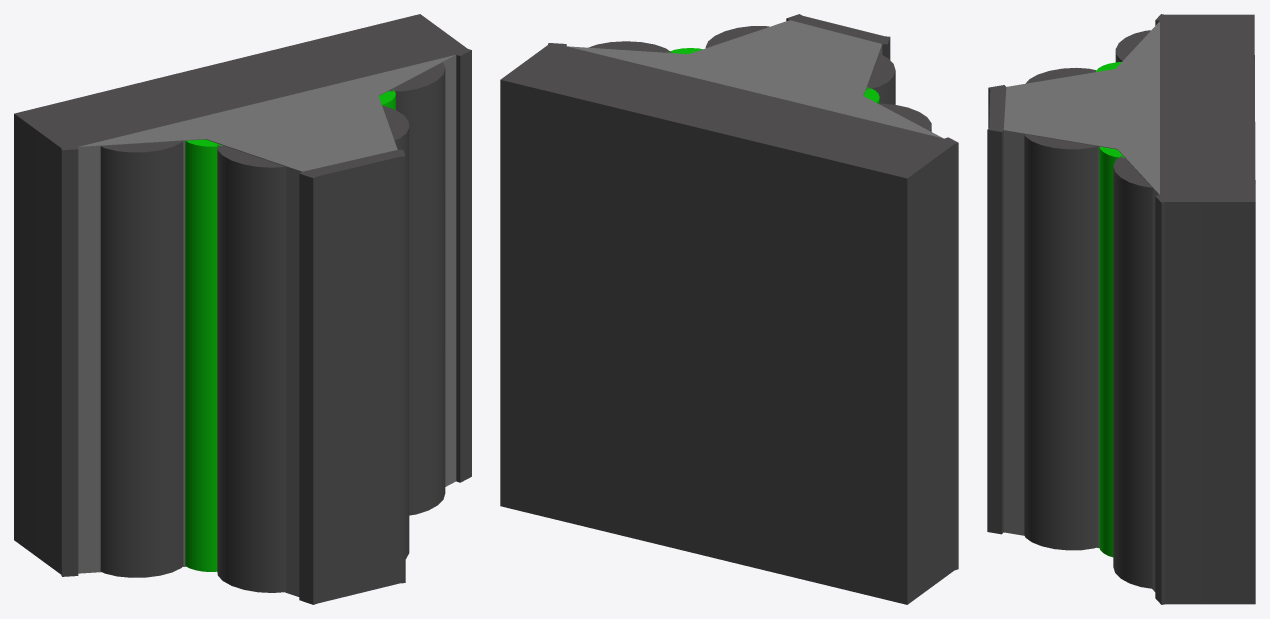
The model's file is Robot_Wall_Corner_DoubleSided.fbx.
The picture shows the model from 3 angles, left to right: view 1: azimuth 30°, elevation 25°; view 2: azimuth 150°, elevation 25°; view 3: azimuth 270°, elevation 25°; orthographic projection. The views are drawn at different scales.
Visible parts, largest first — view 1: Robot_Wall_Corner_DoubleSided; view 2: Robot_Wall_Corner_DoubleSided; view 3: Robot_Wall_Corner_DoubleSided.
Boxes of the visible parts, <box> form: Robot_Wall_Corner_DoubleSided: <box>14,14,471,604</box>; Robot_Wall_Corner_DoubleSided: <box>500,14,958,604</box>; Robot_Wall_Corner_DoubleSided: <box>987,14,1255,604</box>.
Size of the model in its own units: 5.03 by 3.02 by 5.
